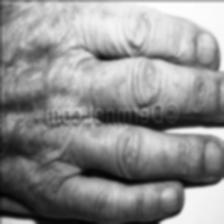Unclassified: (120, 133, 140, 165), (139, 62, 158, 80)
